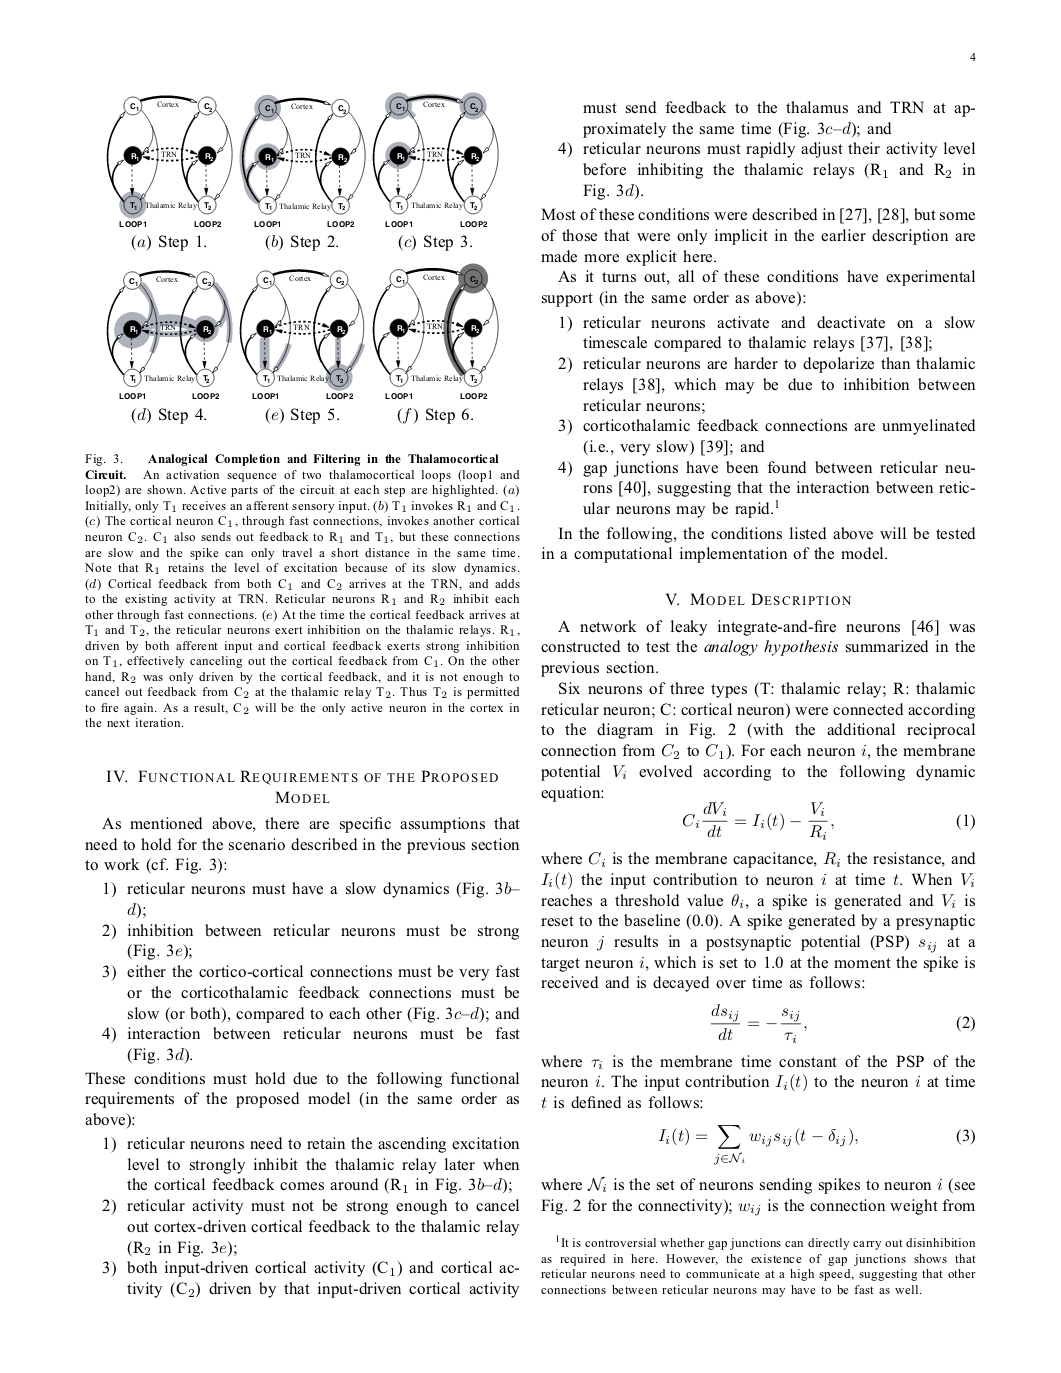figure: (106, 262, 498, 400), (106, 91, 498, 228)
formula: (658, 1124, 974, 1163), (710, 1002, 974, 1043), (682, 802, 974, 839)
